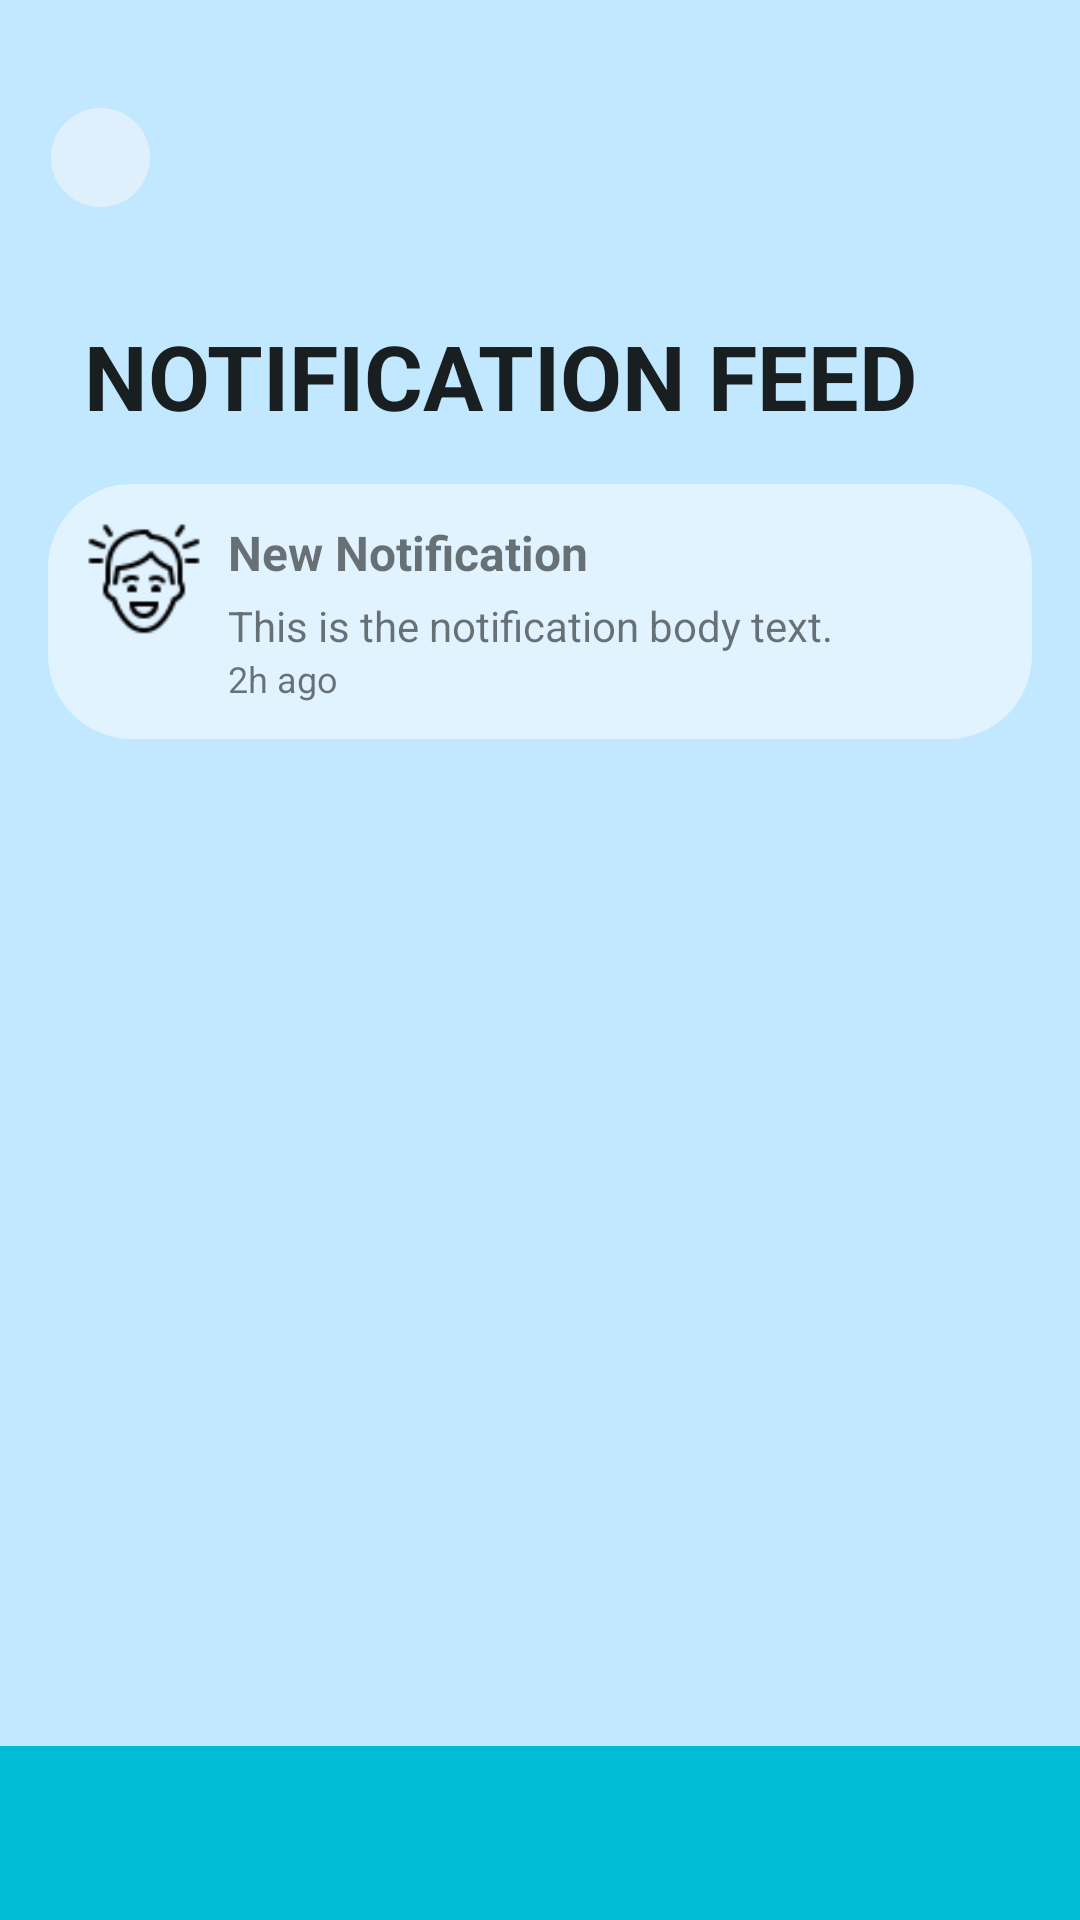

Where to tap for icons on this 1080 x 1920 app screen, as point (x, y):
user: point (144, 579)
